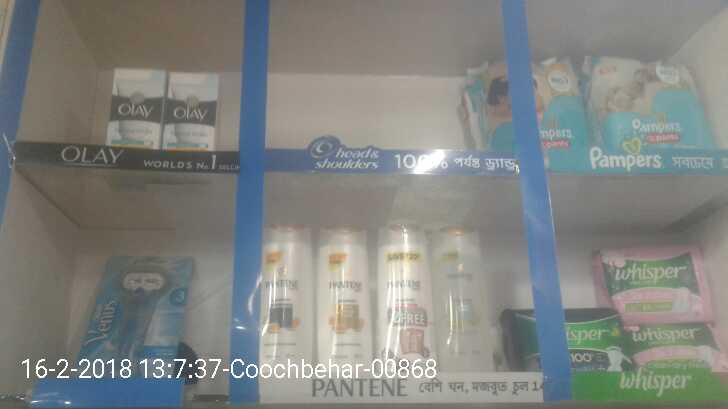venus: (78, 254, 188, 367)
